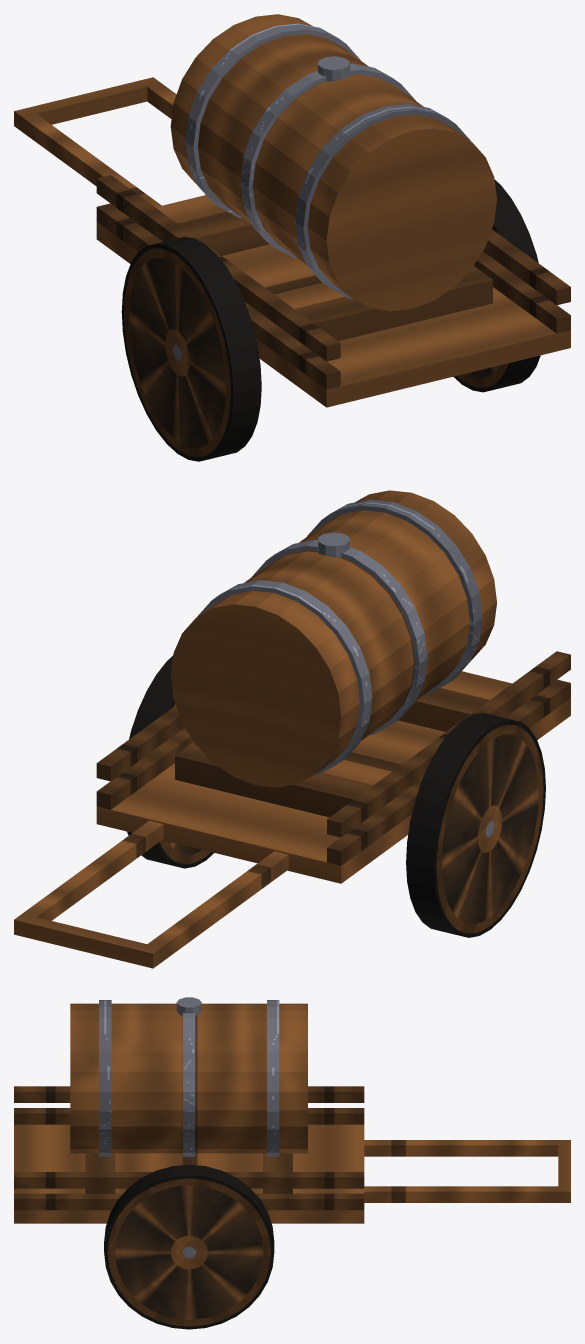
The model's file is holzwagen_fass_blur.fbx.
3 views of the same model, one above another, from view 1: azimuth 30°, elevation 25°; view 2: azimuth 150°, elevation 25°; view 3: azimuth 270°, elevation 25° (orthographic). The views are drawn at different scales.
Visible parts, largest first — view 1: Holzwagen_Fass_blur; view 2: Holzwagen_Fass_blur; view 3: Holzwagen_Fass_blur.
Boxes of the visible parts, x1,y1,x2,y2 form: Holzwagen_Fass_blur: (14,14,570,461); Holzwagen_Fass_blur: (14,490,570,968); Holzwagen_Fass_blur: (14,997,570,1329).
Size of the model in its own units: 110 by 118 by 222.
